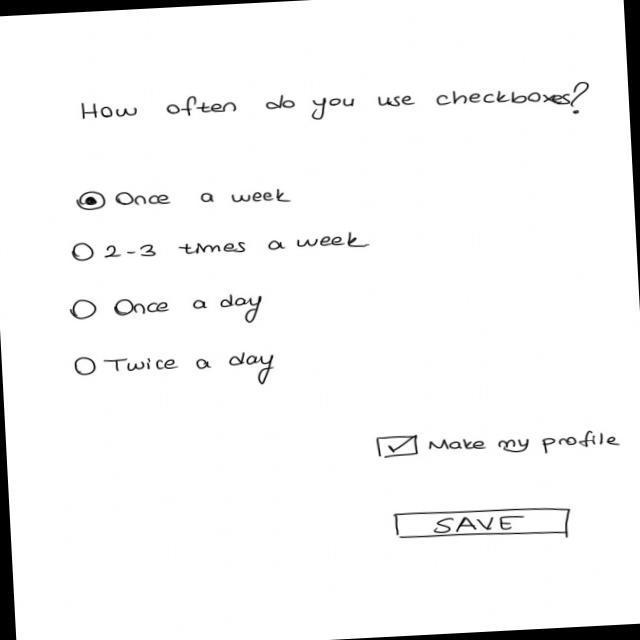button: (392, 503, 577, 546)
checkbox: (375, 423, 625, 466)
label: (78, 74, 594, 144)
radio: (71, 227, 373, 265), (72, 346, 278, 396), (70, 290, 266, 334), (77, 181, 295, 216)
